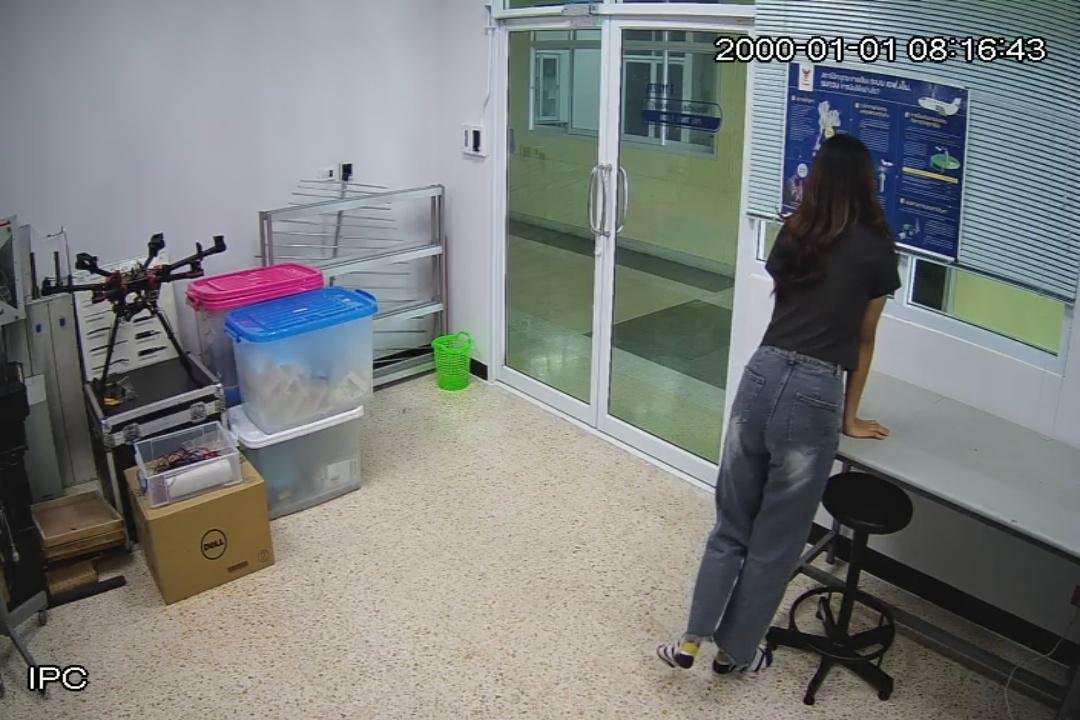normal: (650, 130, 904, 690)
